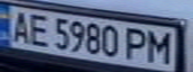0: (100, 23, 124, 57)
5: (48, 16, 72, 52)
8: (81, 20, 103, 56)
9: (66, 18, 87, 53)
A: (6, 8, 33, 44)
E: (24, 11, 54, 47)
M: (145, 28, 175, 64)
P: (121, 26, 151, 62)
